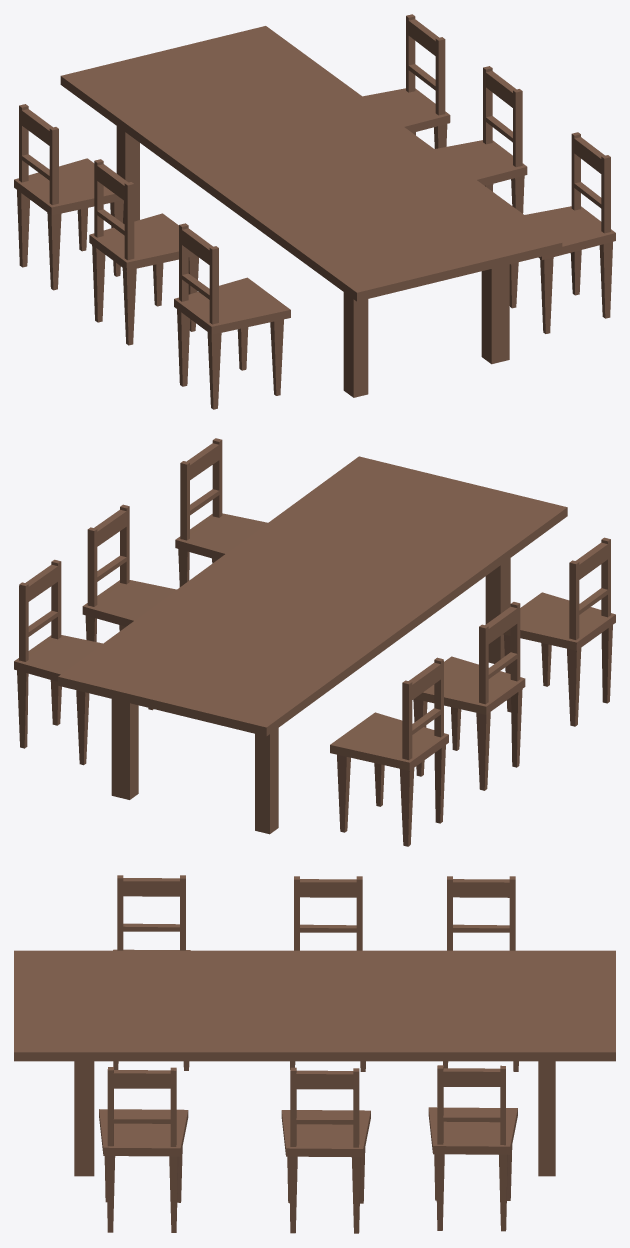
Rendered from Kitchen_tabelset.fbx.
3 views of the same model, one above another, from view 1: azimuth 30°, elevation 25°; view 2: azimuth 150°, elevation 25°; view 3: azimuth 270°, elevation 25° (orthographic).
Parts seen in each view (by area): view 1: Kitchen_Tabel, Kitchen_Chair6, Kitchen_Chair5, Kitchen_Chair4, Kitchen_Chair3, Kitchen_Chair2, Kitchen_Chair1; view 2: Kitchen_Tabel, Kitchen_Chair4, Kitchen_Chair6, Kitchen_Chair5, Kitchen_Chair1, Kitchen_Chair3, Kitchen_Chair2; view 3: Kitchen_Tabel, Kitchen_Chair3, Kitchen_Chair2, Kitchen_Chair1, Kitchen_Chair6, Kitchen_Chair5, Kitchen_Chair4.
Part boxes in pixels (left/top/right/bottom): Kitchen_Tabel: left=60, top=26, right=562, bottom=397; Kitchen_Chair6: left=174, top=223, right=290, bottom=409; Kitchen_Chair5: left=89, top=159, right=198, bottom=345; Kitchen_Chair4: left=14, top=104, right=123, bottom=290; Kitchen_Chair3: left=509, top=132, right=615, bottom=333; Kitchen_Chair2: left=435, top=66, right=527, bottom=213; Kitchen_Chair1: left=363, top=14, right=450, bottom=148; Kitchen_Tabel: left=58, top=456, right=567, bottom=834; Kitchen_Chair4: left=330, top=657, right=448, bottom=846; Kitchen_Chair6: left=503, top=537, right=615, bottom=726; Kitchen_Chair5: left=413, top=602, right=525, bottom=790; Kitchen_Chair1: left=14, top=559, right=102, bottom=765; Kitchen_Chair3: left=175, top=438, right=267, bottom=587; Kitchen_Chair2: left=82, top=504, right=176, bottom=710; Kitchen_Tabel: left=14, top=950, right=615, bottom=1176; Kitchen_Chair3: left=99, top=1067, right=188, bottom=1232; Kitchen_Chair2: left=281, top=1067, right=370, bottom=1233; Kitchen_Chair1: left=428, top=1065, right=517, bottom=1231; Kitchen_Chair6: left=113, top=875, right=190, bottom=1070; Kitchen_Chair5: left=290, top=876, right=365, bottom=1071; Kitchen_Chair4: left=443, top=876, right=518, bottom=1071.
Bounding box in the file's own units: 636 × 245 × 812.
